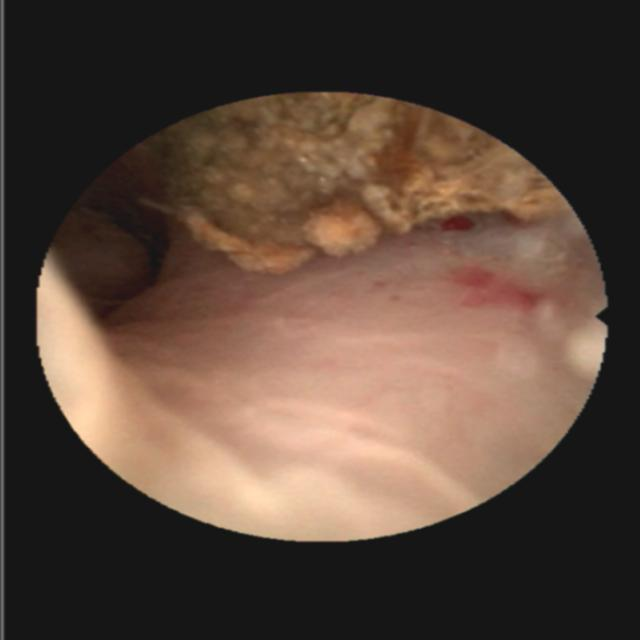stone: (155, 99, 557, 270)
